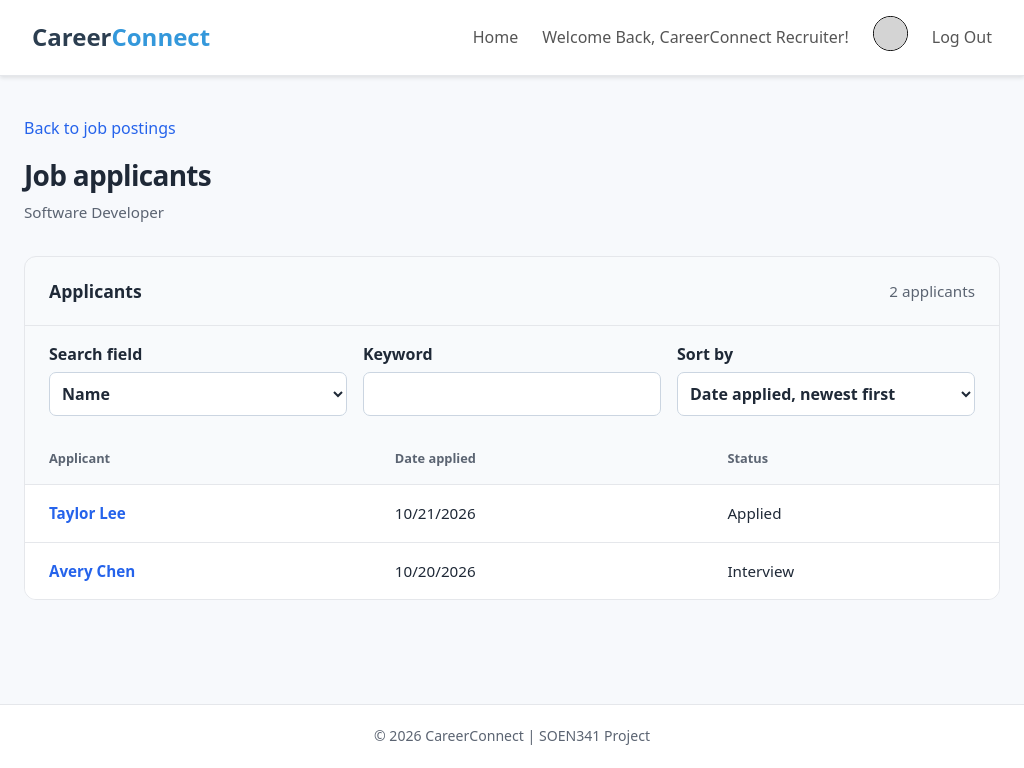
it: opens the applicant overview, searches and sorts, and navigates to the selected application
Earlier steps of the test are not shown.
Check: the heading "Job applicants" is shown, box [24, 157, 211, 194]
Check: the link "Taylor Lee" is shown, box [49, 504, 126, 524]
Step 1. Select "Name, A to Z" in the dropdown labelled "Sort by" → (826, 394), box [677, 372, 975, 416]
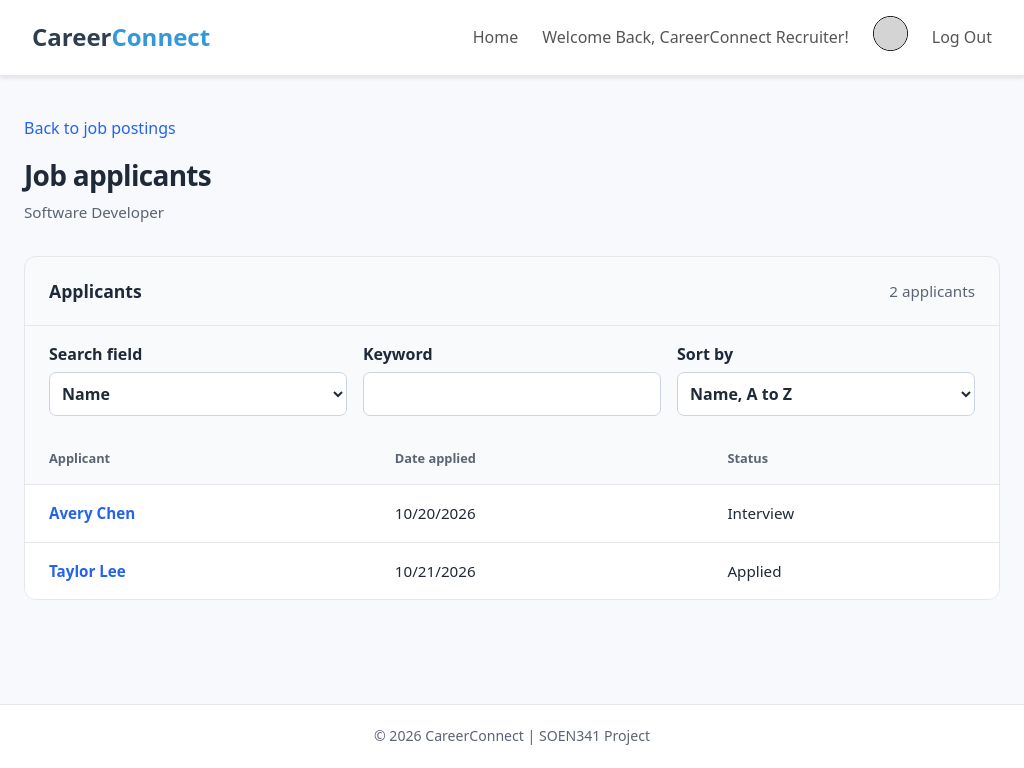
Check: the links read "Avery Chen", "Taylor Lee", in this order, box [49, 504, 135, 524]; [49, 561, 126, 581]
Step 2. Select "Date applied, oldest first" in the dropdown labelled "Sort by" → (826, 394), box [677, 372, 975, 416]
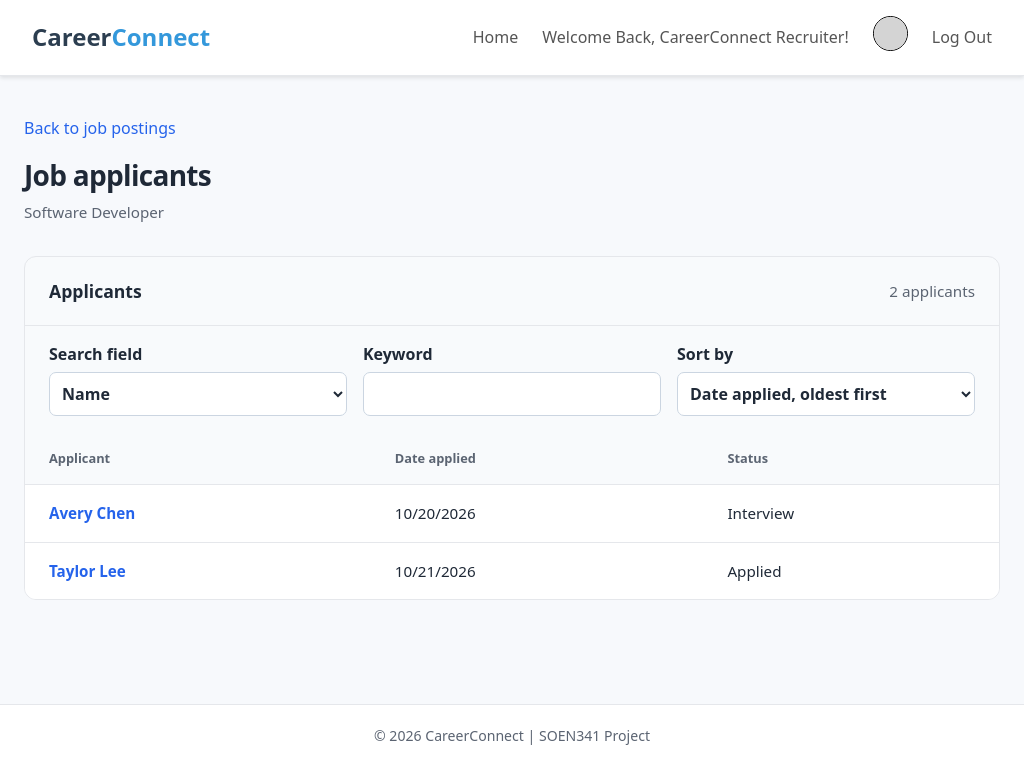
Check: the link "Avery Chen" is shown, box [49, 504, 135, 524]
Step 3. Select "Skills" in the dropdown labelled "Search field" → (198, 394), box [49, 372, 347, 416]
Step 4. Type " missing " into the search field labelled "Keyword" → (512, 394), box [363, 372, 661, 416]
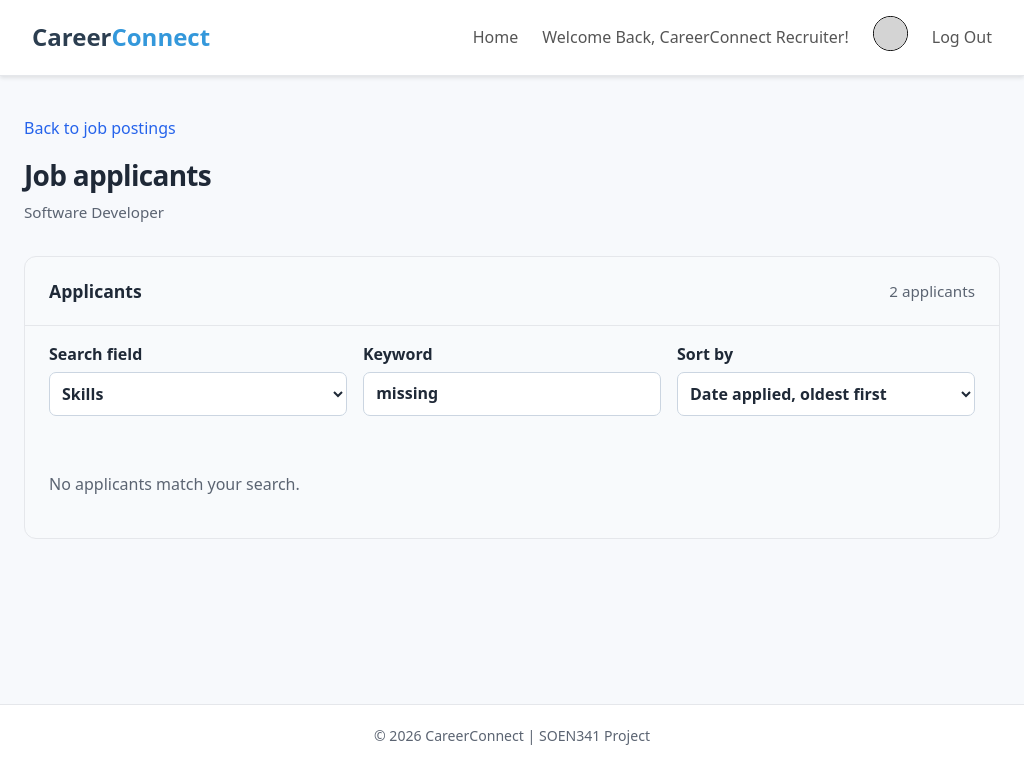
Check: the text "No applicants match your search." is shown, box [49, 473, 300, 495]
Step 5. Replace the text in the search field labelled "Keyword" with " rEaCt " → (512, 394), box [363, 372, 661, 416]
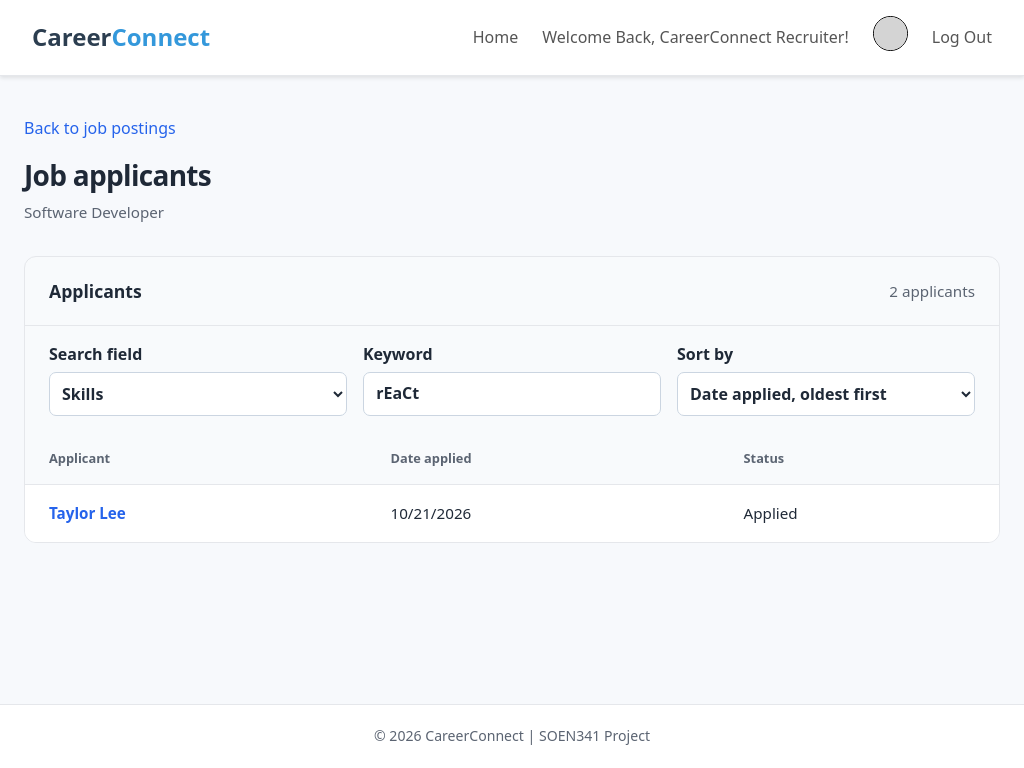
Step 6. Click the link "Taylor Lee" → (87, 514), box [49, 504, 126, 524]
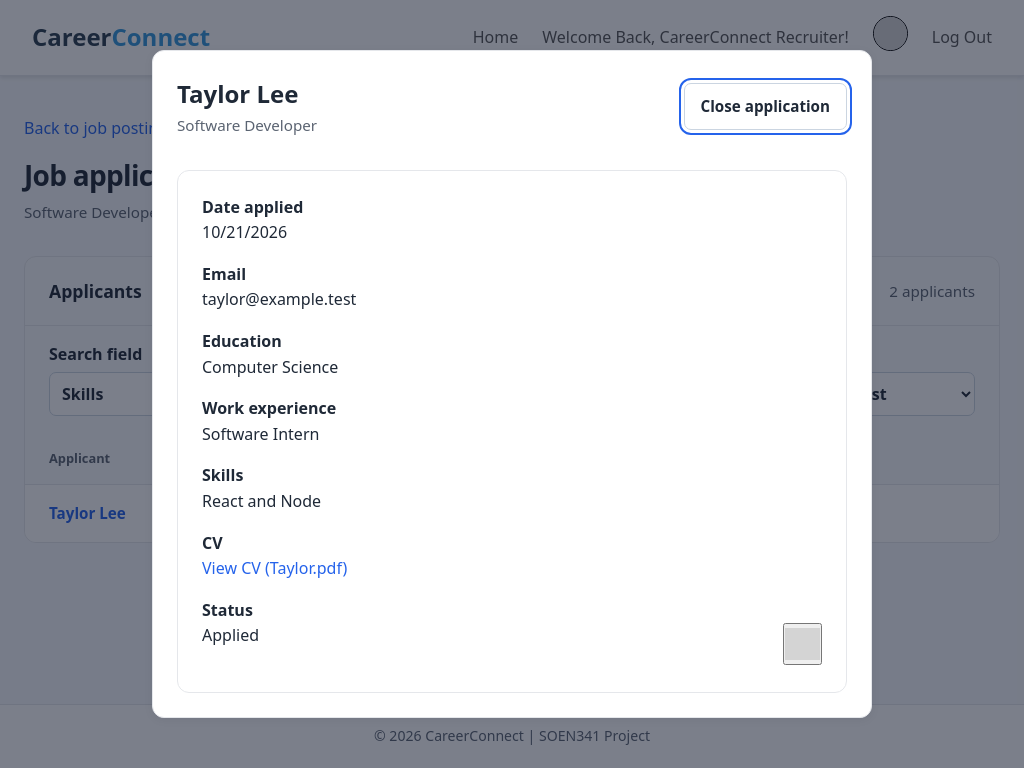
Check: the heading "Taylor Lee" is shown, box [177, 75, 317, 113]
Check: the text "Computer Science" is shown, box [202, 356, 338, 378]
Check: the text "Software Intern" is shown, box [202, 423, 319, 445]
Step 7. Click the button "Close application" → (765, 106), box [684, 83, 847, 130]
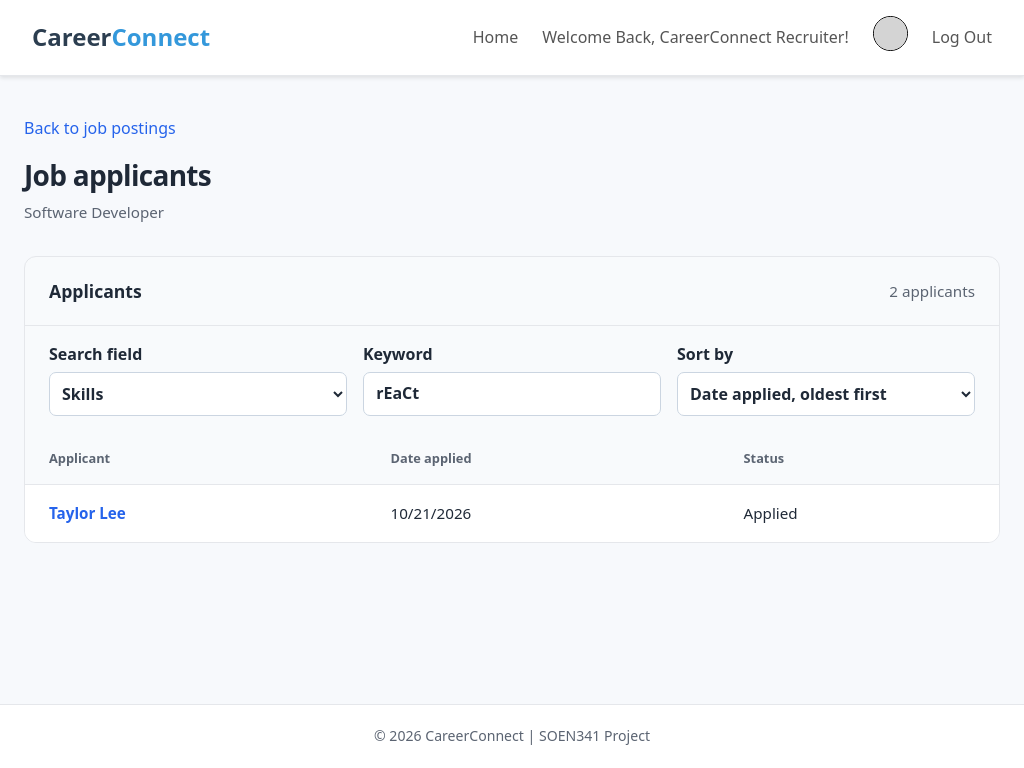
Check: the table named "Applications" is shown, box [25, 432, 999, 542]
Check: the dialog is gone
